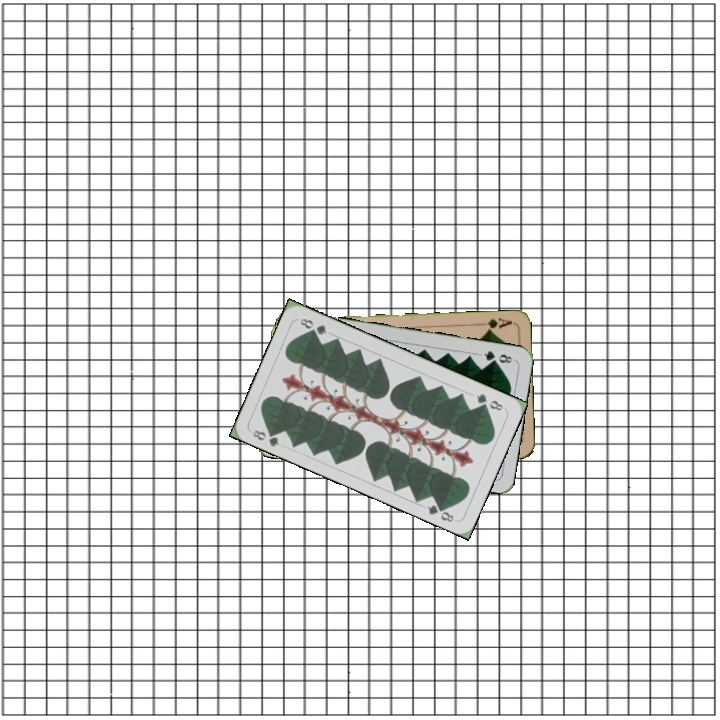G8: (472, 389, 507, 414), (476, 346, 517, 366), (249, 425, 282, 449)
GA: (474, 314, 515, 334)
